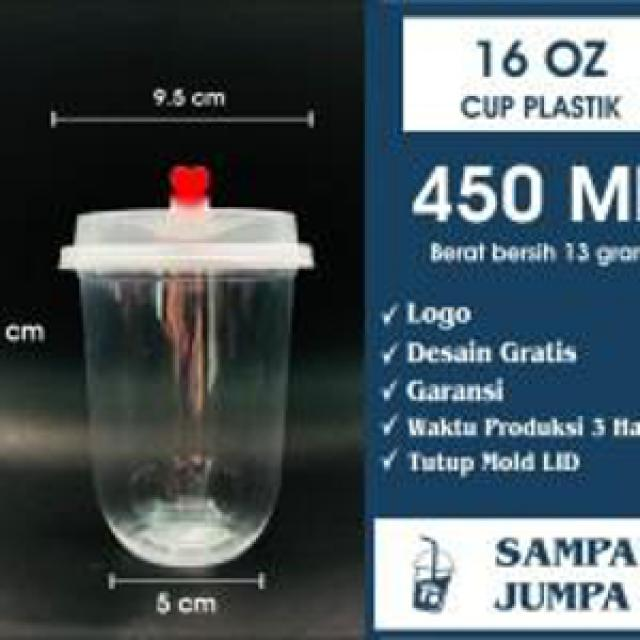plastic cup: (51, 162, 316, 574)
